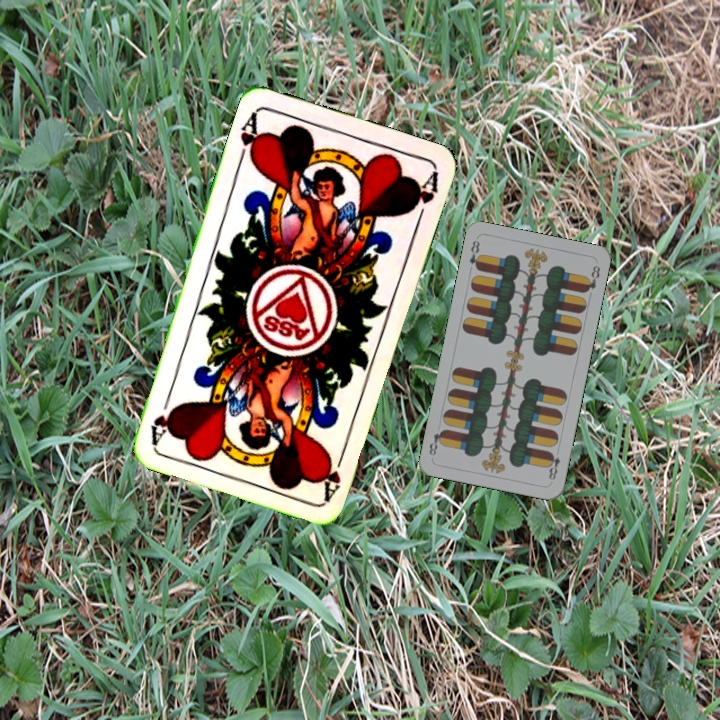E8: (465, 236, 484, 273), (544, 448, 563, 483)
HA: (316, 444, 349, 502), (234, 108, 265, 166)
